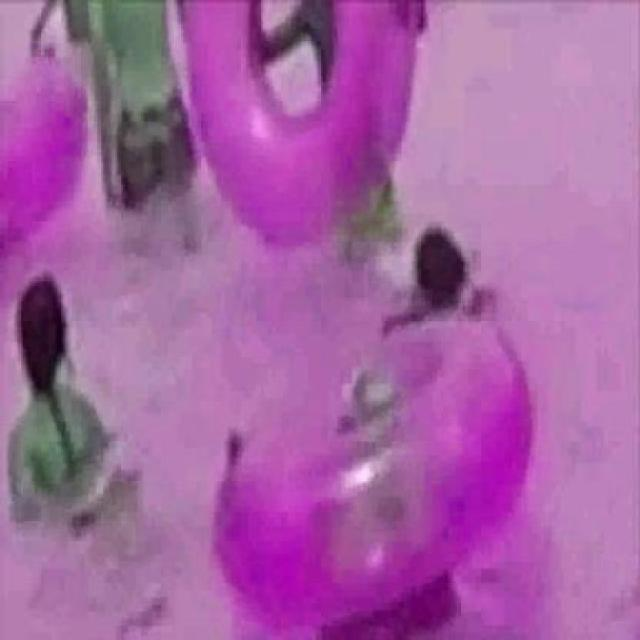drowning: (9, 271, 114, 512), (405, 222, 500, 306)
